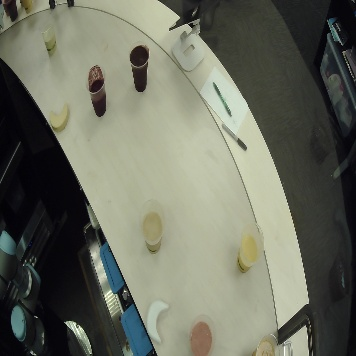full_cup: (235, 220, 264, 278), (138, 196, 167, 254), (124, 36, 153, 94), (82, 60, 111, 118), (187, 314, 217, 354), (37, 19, 62, 61), (3, 1, 20, 22), (15, 1, 35, 14)
puck: (142, 296, 171, 347), (44, 102, 74, 131)
